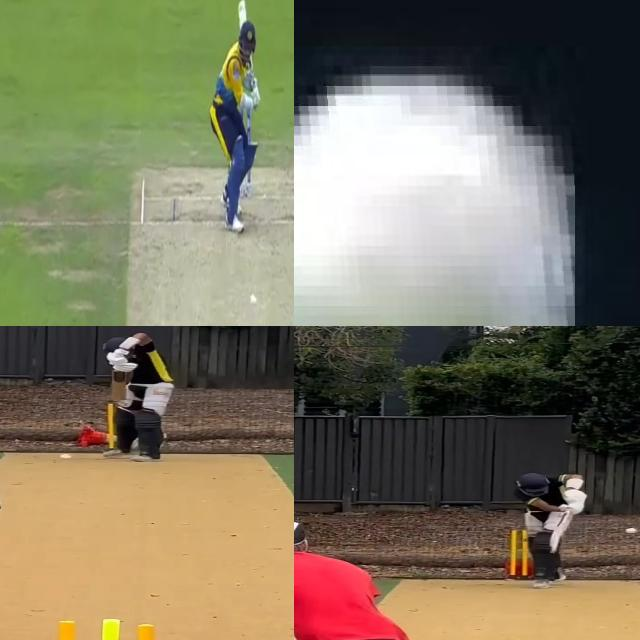Cricket ball: (294, 67, 575, 326), (248, 291, 258, 309), (625, 526, 640, 536), (59, 452, 74, 460)
